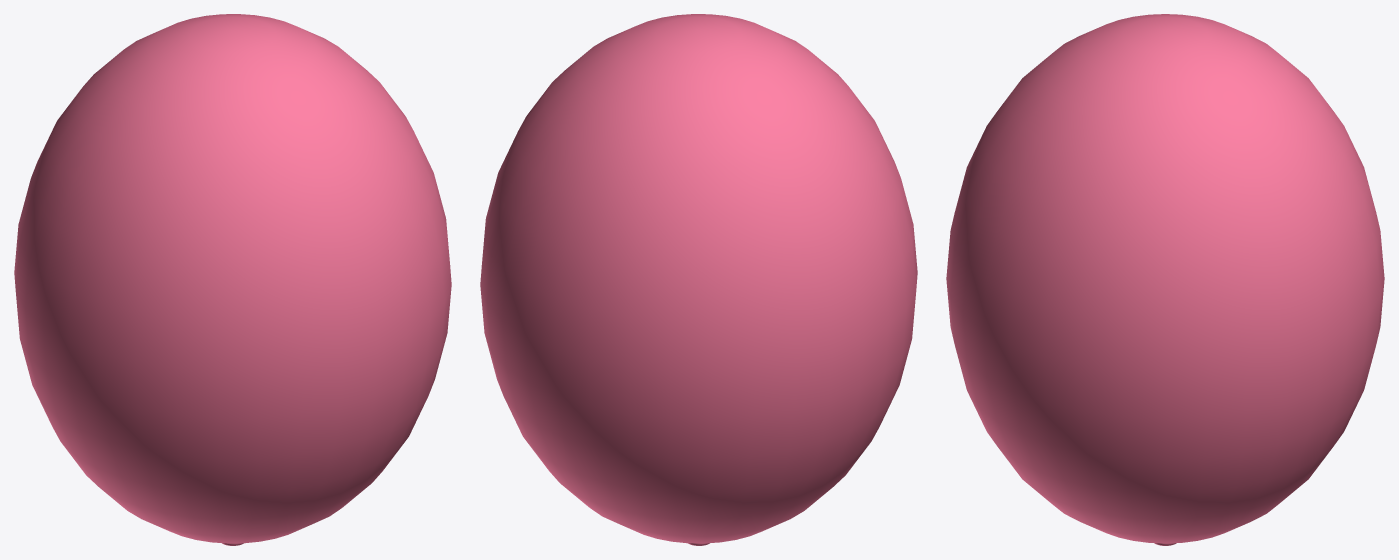
The model's file is balloon.glb.
The picture shows the model from 3 angles, left to right: view 1: azimuth 30°, elevation 25°; view 2: azimuth 150°, elevation 25°; view 3: azimuth 270°, elevation 25°; orthographic projection.
Parts seen in each view (by area): view 1: balloon_body; view 2: balloon_body; view 3: balloon_body.
Boxes of the visible parts, x1,y1,x2,y2 form: balloon_body: (14, 14, 451, 543); balloon_body: (480, 14, 917, 543); balloon_body: (946, 14, 1384, 543).
Size of the model in its own units: 0.2 by 0.257 by 0.2.
